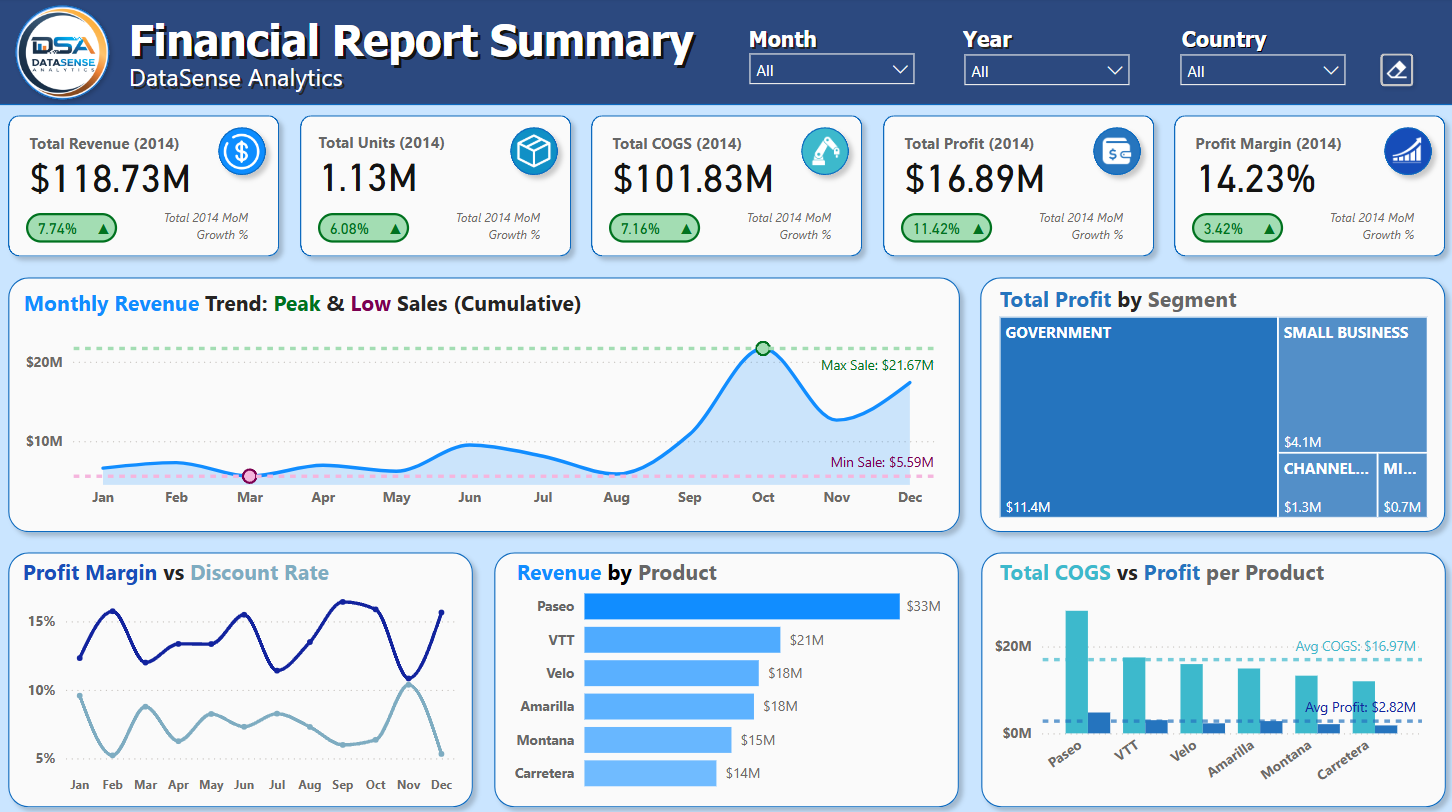

What the dashboard file says about the page in this screenshot:
{"tool":"powerbi","page":{"name":"Financial Report 2","canvas":[1280,720],"ordinal":2},"visuals":[{"type":"shape","title":"Header","box":[0,0,1280,94],"z":0},{"type":"shape","title":"Logo Bg","box":[8.9,0,95.6,95.6],"z":0,"group":"g3"},{"type":"textbox","title":"Title Bg","box":[113,12,536,72],"z":0,"group":"g2"},{"type":"shape","title":"Clear Slicer Bg","box":[1207.3,42,42,42],"z":0,"group":"g4"},{"type":"textbox","title":"Subtitle Bg","box":[113,52,256,48],"z":0,"group":"g1"},{"type":"shape","title":"Widget Bg","box":[0,94,256,142],"z":0,"group":"g8"},{"type":"shape","title":"Widget Bg","box":[512.2,94,256,142],"z":0,"group":"g10"},{"type":"shape","title":"Widget Bg","box":[1024.2,94,256,142],"z":0,"group":"g12"},{"type":"shape","title":"Widget Bg","box":[256.1,94.2,256,142],"z":0,"group":"g9"},{"type":"shape","title":"Widget Bg","box":[768.2,94.2,256,142],"z":0,"group":"g11"},{"type":"shape","title":"Widget Bg","box":[0,236.4,853.6,241.8],"z":0,"group":"g13"},{"type":"shape","title":"Widget Bg","box":[853.6,236.4,426.4,241.8],"z":0,"group":"g14"},{"type":"shape","title":"Widget Bg","box":[0,478,426,242],"z":0,"group":"g16"},{"type":"shape","title":"Widget Bg","box":[427,478,426,242],"z":0,"group":"g17"},{"type":"shape","title":"Widget Bg","box":[854,478,426,242],"z":0,"group":"g15"},{"type":"image","title":"Image Logo","box":[12.1,3.4,88.9,88.9],"z":1000,"group":"g3"},{"type":"textbox","title":"Title Fg","box":[110,9,536,72],"z":1000,"group":"g2"},{"type":"textbox","title":"Country Label Bg","box":[1035,20,94.6,37.7],"z":1000,"group":"g7"},{"type":"textbox","title":"Month Label Bg","box":[656,21,90,33],"z":1000,"group":"g5"},{"type":"textbox","title":"Year Label Bg","box":[844,21,90,33],"z":1000,"group":"g6"},{"type":"image","title":"Slicer Logo","box":[1210.1,45.3,35,35],"z":1000,"group":"g4"},{"type":"group","id":"g1","title":"Subtitle","box":[110,49,259,51],"z":1000},{"type":"textbox","title":"Subtitle Fg","box":[110,49,256,48],"z":1000,"group":"g1"},{"type":"cardVisual","title":"Card","fields":{"Data":["Financials.Total Units Sold"]},"box":[264.2,104,211.8,96.4],"z":1000,"group":"g9"},{"type":"cardVisual","title":"Card","fields":{"Data":["Financials.Total Sales"]},"box":[10.3,104.6,196,96],"z":1000,"group":"g8"},{"type":"cardVisual","title":"Card","fields":{"Data":["Financials.Total COGS"]},"box":[522.5,104.6,196,96],"z":1000,"group":"g10"},{"type":"cardVisual","title":"Card","fields":{"Data":["Financials.Profit Margin"]},"box":[1034.5,104.6,196,96],"z":1000,"group":"g12"},{"type":"cardVisual","title":"Card","fields":{"Data":["Financials.Total Profit"]},"box":[778.5,104.8,196,96],"z":1000,"group":"g11"},{"type":"lineChart","title":" Line Chart","fields":{"Y":["Financials.Total Sales"],"Category":["Calendar.MonthShorthand"]},"box":[18.6,255.8,813,201],"z":1000,"group":"g13"},{"type":"treemap","title":"Treemap","fields":{"Group":["Financials.Segment"],"Values":["Financials.Total Profit"]},"box":[874.4,260,385.7,201.4],"z":1000,"group":"g14"},{"type":"lineChart","title":"Dual Line Chart","fields":{"Y":["Financials.Discount %","Financials.Profit Margin"],"Category":["Calendar.MonthShorthand"]},"box":[20,502.6,385.7,201.4],"z":1000,"group":"g16"},{"type":"clusteredColumnChart","title":"Column Chart","fields":{"Category":["Financials.Product"],"Y":["Financials.Total COGS","Financials.Total Profit"]},"box":[868.6,502.9,385.7,201.4],"z":1000,"group":"g15"},{"type":"barChart","title":"Bar Chart","fields":{"Y":["Financials.Total Sales"],"Category":["Financials.Product"]},"box":[447.1,503.4,385.7,201.4],"z":1000,"group":"g17"},{"type":"group","id":"g2","title":"Title","box":[110,9,539,75],"z":2000},{"type":"textbox","title":"Country Label Fg","box":[1033.8,19,101.7,36.7],"z":2000,"group":"g7"},{"type":"textbox","title":"Year Label Fg","box":[842,19.1,90,33.3],"z":2000,"group":"g6"},{"type":"textbox","title":"Month Label Fg","box":[654,19.3,90,33.3],"z":2000,"group":"g5"},{"type":"actionButton","title":"Clear Slicer Button","box":[1207.3,43,42,42],"z":2000,"group":"g4"},{"type":"kpi","title":"Total Sales MoM","fields":{"TrendLine":["Calendar.Year"],"Indicator":["Financials.Total Sales MoM %"]},"box":[25,188.6,80,26],"z":2000,"group":"g8"},{"type":"kpi","title":"Total COGS MoM","fields":{"TrendLine":["Calendar.Year"],"Indicator":["Financials.Total COGS MoM %"]},"box":[537.2,188.6,80,26],"z":2000,"group":"g10"},{"type":"kpi","title":"Profit Margin MoM","fields":{"TrendLine":["Calendar.Year"],"Indicator":["Financials.Profit Margin MoM %"]},"box":[1049.2,188.6,80,26],"z":2000,"group":"g12"},{"type":"kpi","title":"Total Units Sold MoM","fields":{"TrendLine":["Calendar.Year"],"Indicator":["Financials.Total Units Sold MoM %"]},"box":[281.1,188.8,80,26],"z":2000,"group":"g9"},{"type":"kpi","title":"Total Profit MoM","fields":{"TrendLine":["Calendar.Year"],"Indicator":["Financials.Total Profit MoM %"]},"box":[793.2,188.8,80,26],"z":2000,"group":"g11"},{"type":"textbox","title":"Title","box":[874.2,247,288.6,37.1],"z":2000,"group":"g14"},{"type":"textbox","title":"Title","box":[17.8,250.4,515.7,37.1],"z":2000,"group":"g13"},{"type":"textbox","title":"Title","box":[17,487,288.8,37.5],"z":2000,"group":"g16"},{"type":"textbox","title":"Title","box":[450.4,487,288.8,37.5],"z":2000,"group":"g17"},{"type":"textbox","title":"Title","box":[874,487,387.1,60],"z":2000,"group":"g15"},{"type":"group","id":"g3","title":"Logo","box":[8.9,0,95.6,95.6],"z":3000},{"type":"slicer","title":"Month Slicer","fields":{"Values":["Calendar.Month"]},"box":[650,39,165.3,45.8],"z":3000,"group":"g5"},{"type":"slicer","title":"Year Slicer","fields":{"Values":["Calendar.Year"]},"box":[839,39,165,45],"z":3000,"group":"g6"},{"type":"slicer","title":"Country Slicer","fields":{"Values":["Financials.Country"]},"box":[1028,39,165,45],"z":3000,"group":"g7"},{"type":"card","title":"Total Sales Arrow","fields":{"Values":["Financials.Total Sales MoM Display"]},"box":[74,185.1,37.6,32.9],"z":3000,"group":"g8"},{"type":"card","title":"Total COGS Arrow","fields":{"Values":["Financials.Total COGS Arrow"]},"box":[586.1,185.1,37.6,32.9],"z":3000,"group":"g10"},{"type":"card","title":"Profit Margin Arrow","fields":{"Values":["Financials.Profit Margin Arrow"]},"box":[1098.1,185.1,37.6,32.9],"z":3000,"group":"g12"},{"type":"card","title":"Total Units Sold Arrow","fields":{"Values":["Financials.Total Units Sold Arrow"]},"box":[330,185.3,37.6,32.9],"z":3000,"group":"g9"},{"type":"card","title":"Total Profit Arrow","fields":{"Values":["Financials.Total Profit Arrow"]},"box":[842.1,185.3,37.6,32.9],"z":3000,"group":"g11"},{"type":"group","id":"g4","title":"Clear Slicer","box":[1207.3,42,42,43],"z":4000},{"type":"cardVisual","title":"MoM Card","fields":{"Data":["Financials.Total Sales MoM Title"]},"box":[116.8,170.4,103.5,53.5],"z":4000,"group":"g8"},{"type":"cardVisual","title":"MoM Card","fields":{"Data":["Financials.Total Sales MoM Title"]},"box":[629,170.4,103.5,53.5],"z":4000,"group":"g10"},{"type":"cardVisual","title":"MoM Card","fields":{"Data":["Financials.Total Sales MoM Title"]},"box":[1141,170.4,103.5,53.5],"z":4000,"group":"g12"},{"type":"cardVisual","title":"MoM Card","fields":{"Data":["Financials.Total Sales MoM Title"]},"box":[372.9,170.6,103.5,53.5],"z":4000,"group":"g9"},{"type":"cardVisual","title":"MoM Card","fields":{"Data":["Financials.Total Sales MoM Title"]},"box":[885,170.6,103.5,53.5],"z":4000,"group":"g11"},{"type":"group","id":"g5","title":"Month Slicer","box":[640,19.3,186.4,76.2],"z":5000},{"type":"shape","title":"Icon Shape","box":[184.2,104.8,59.8,60],"z":5000,"group":"g8"},{"type":"shape","title":"Icon Shape","box":[696.4,104.8,59.8,60],"z":5000,"group":"g10"},{"type":"shape","title":"Icon Shape","box":[1208.4,104.8,59.8,60],"z":5000,"group":"g12"},{"type":"shape","title":"Icon Shape","box":[440.3,105,59.8,60],"z":5000,"group":"g9"},{"type":"shape","title":"Icon Shape","box":[952.4,105,59.8,60],"z":5000,"group":"g11"},{"type":"image","box":[449.2,113.9,41.5,41.5],"z":5500,"group":"g9"},{"type":"image","box":[1220,116.4,35.5,35.5],"z":5500,"group":"g12"},{"type":"image","box":[710,116.5,35.6,35],"z":5500,"group":"g10"},{"type":"image","box":[964.6,117,35.4,35.4],"z":5500,"group":"g11"},{"type":"group","id":"g6","title":"Year Slicer","box":[829.2,19.1,186,75.9],"z":6000},{"type":"image","box":[191.2,112.3,45.2,45.3],"z":6000,"group":"g8"},{"type":"group","id":"g7","title":"Country Slicer","box":[1018.1,19,186,76],"z":7000},{"type":"group","id":"g8","title":"Total Sales Card","box":[0,94,256,142],"z":8000},{"type":"group","id":"g9","title":"Total Units Sold Card","box":[256.1,94.2,256,142],"z":9000},{"type":"group","id":"g10","title":"Total COGS Card","box":[512.2,94,256,142],"z":10000},{"type":"group","id":"g11","title":"Total Profit Card","box":[768.2,94.2,256,142],"z":11000},{"type":"group","id":"g12","title":"Profit Margin Card","box":[1024.2,94,256,142],"z":12000},{"type":"group","id":"g13","title":"Line Chart","box":[0,236.4,853.6,241.8],"z":13000},{"type":"group","id":"g14","title":"Treemap","box":[853.6,236.4,426.4,241.8],"z":14000},{"type":"group","id":"g15","title":"Column Chart","box":[854,478,426,242],"z":15000},{"type":"group","id":"g16","title":"Dual Line Chart","box":[0,478,426,242],"z":16000},{"type":"group","id":"g17","title":"Bar Chart","box":[427,478,426,242],"z":17000}]}

Visuals, with their boxes in screenshot pixels (x1, y1, x2, y2), scaled from the page's 1280x720 canvas onto the 1452x812 screenshot:
"Header" shape: select_region(0, 0, 1451, 106)
"Logo Bg" shape: select_region(10, 0, 119, 108)
"Title Bg" textbox: select_region(128, 14, 736, 95)
"Clear Slicer Bg" shape: select_region(1370, 47, 1417, 95)
"Subtitle Bg" textbox: select_region(128, 59, 419, 113)
"Widget Bg" shape: select_region(0, 106, 290, 266)
"Widget Bg" shape: select_region(581, 106, 871, 266)
"Widget Bg" shape: select_region(1162, 106, 1451, 266)
"Widget Bg" shape: select_region(291, 106, 581, 266)
"Widget Bg" shape: select_region(871, 106, 1162, 266)
"Widget Bg" shape: select_region(0, 267, 968, 539)
"Widget Bg" shape: select_region(968, 267, 1451, 539)
"Widget Bg" shape: select_region(0, 539, 483, 811)
"Widget Bg" shape: select_region(484, 539, 968, 811)
"Widget Bg" shape: select_region(969, 539, 1451, 811)
"Image Logo" image: select_region(14, 4, 115, 104)
"Title Fg" textbox: select_region(125, 10, 733, 91)
"Country Label Bg" textbox: select_region(1174, 23, 1281, 65)
"Month Label Bg" textbox: select_region(744, 24, 846, 61)
"Year Label Bg" textbox: select_region(957, 24, 1060, 61)
"Slicer Logo" image: select_region(1373, 51, 1412, 91)
"Subtitle" group: select_region(125, 55, 419, 113)
"Subtitle Fg" textbox: select_region(125, 55, 415, 109)
"Card" cardVisual: select_region(300, 117, 540, 226)
"Card" cardVisual: select_region(12, 118, 234, 226)
"Card" cardVisual: select_region(593, 118, 815, 226)
"Card" cardVisual: select_region(1174, 118, 1396, 226)
"Card" cardVisual: select_region(883, 118, 1105, 226)
" Line Chart" lineChart: select_region(21, 288, 943, 515)
"Treemap" treemap: select_region(992, 293, 1429, 520)
"Dual Line Chart" lineChart: select_region(23, 567, 460, 794)
"Column Chart" clusteredColumnChart: select_region(985, 567, 1423, 794)
"Bar Chart" barChart: select_region(507, 568, 945, 795)
"Title" group: select_region(125, 10, 736, 95)
"Country Label Fg" textbox: select_region(1173, 21, 1288, 63)
"Year Label Fg" textbox: select_region(955, 22, 1057, 59)
"Month Label Fg" textbox: select_region(742, 22, 844, 59)
"Clear Slicer Button" actionButton: select_region(1370, 48, 1417, 96)
"Total Sales MoM" kpi: select_region(28, 213, 119, 242)
"Total COGS MoM" kpi: select_region(609, 213, 700, 242)
"Profit Margin MoM" kpi: select_region(1190, 213, 1281, 242)
"Total Units Sold MoM" kpi: select_region(319, 213, 410, 242)
"Total Profit MoM" kpi: select_region(900, 213, 991, 242)
"Title" textbox: select_region(992, 279, 1319, 320)
"Title" textbox: select_region(20, 282, 605, 324)
"Title" textbox: select_region(19, 549, 347, 592)
"Title" textbox: select_region(511, 549, 839, 592)
"Title" textbox: select_region(991, 549, 1431, 617)
"Logo" group: select_region(10, 0, 119, 108)
"Month Slicer" slicer: select_region(737, 44, 925, 96)
"Year Slicer" slicer: select_region(952, 44, 1139, 95)
"Country Slicer" slicer: select_region(1166, 44, 1353, 95)
"Total Sales Arrow" card: select_region(84, 209, 127, 246)
"Total COGS Arrow" card: select_region(665, 209, 708, 246)
"Profit Margin Arrow" card: select_region(1246, 209, 1288, 246)
"Total Units Sold Arrow" card: select_region(374, 209, 417, 246)
"Total Profit Arrow" card: select_region(955, 209, 998, 246)
"Clear Slicer" group: select_region(1370, 47, 1417, 96)
"MoM Card" cardVisual: select_region(132, 192, 250, 253)
"MoM Card" cardVisual: select_region(714, 192, 831, 253)
"MoM Card" cardVisual: select_region(1294, 192, 1412, 253)
"MoM Card" cardVisual: select_region(423, 192, 540, 253)
"MoM Card" cardVisual: select_region(1004, 192, 1121, 253)
"Month Slicer" group: select_region(726, 22, 937, 108)
"Icon Shape" shape: select_region(209, 118, 277, 186)
"Icon Shape" shape: select_region(790, 118, 858, 186)
"Icon Shape" shape: select_region(1371, 118, 1439, 186)
"Icon Shape" shape: select_region(499, 118, 567, 186)
"Icon Shape" shape: select_region(1080, 118, 1148, 186)
image: select_region(510, 128, 557, 175)
image: select_region(1384, 131, 1424, 171)
image: select_region(805, 131, 846, 171)
image: select_region(1094, 132, 1134, 172)
"Year Slicer" group: select_region(941, 22, 1152, 107)
image: select_region(217, 127, 268, 178)
"Country Slicer" group: select_region(1155, 21, 1366, 107)
"Total Sales Card" group: select_region(0, 106, 290, 266)
"Total Units Sold Card" group: select_region(291, 106, 581, 266)
"Total COGS Card" group: select_region(581, 106, 871, 266)
"Total Profit Card" group: select_region(871, 106, 1162, 266)
"Profit Margin Card" group: select_region(1162, 106, 1451, 266)
"Line Chart" group: select_region(0, 267, 968, 539)
"Treemap" group: select_region(968, 267, 1451, 539)
"Column Chart" group: select_region(969, 539, 1451, 811)
"Dual Line Chart" group: select_region(0, 539, 483, 811)
"Bar Chart" group: select_region(484, 539, 968, 811)
